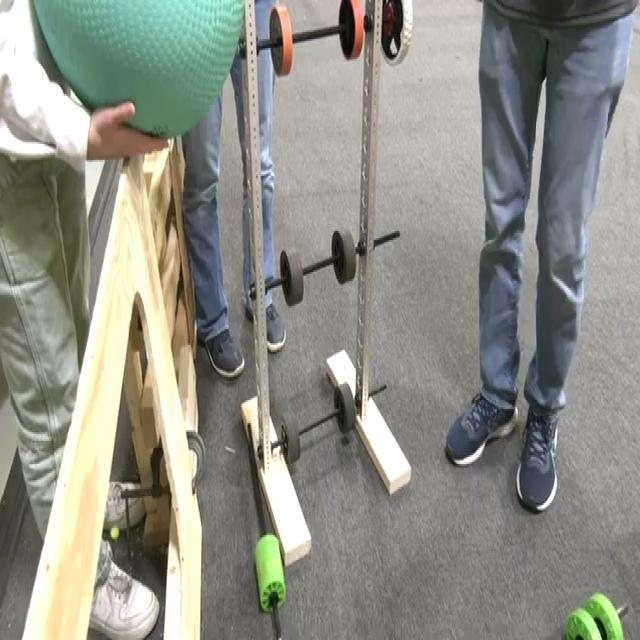Algae: (32, 0, 245, 139)
